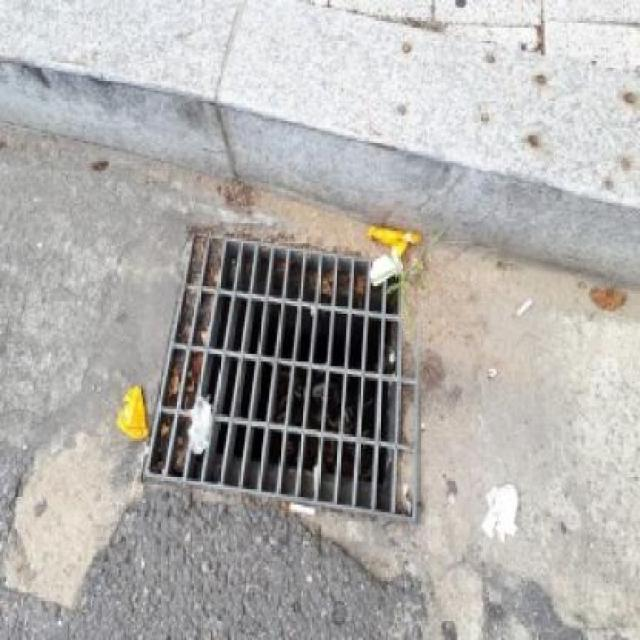Drain Hole: (159, 171, 501, 580)
